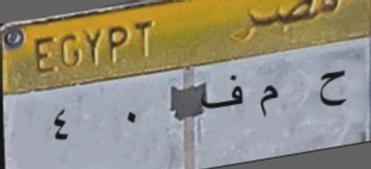0: (120, 106, 144, 131)
4: (46, 106, 74, 144)
7aa: (310, 61, 350, 115)
faa: (200, 70, 244, 116)
meem: (251, 80, 282, 122)
